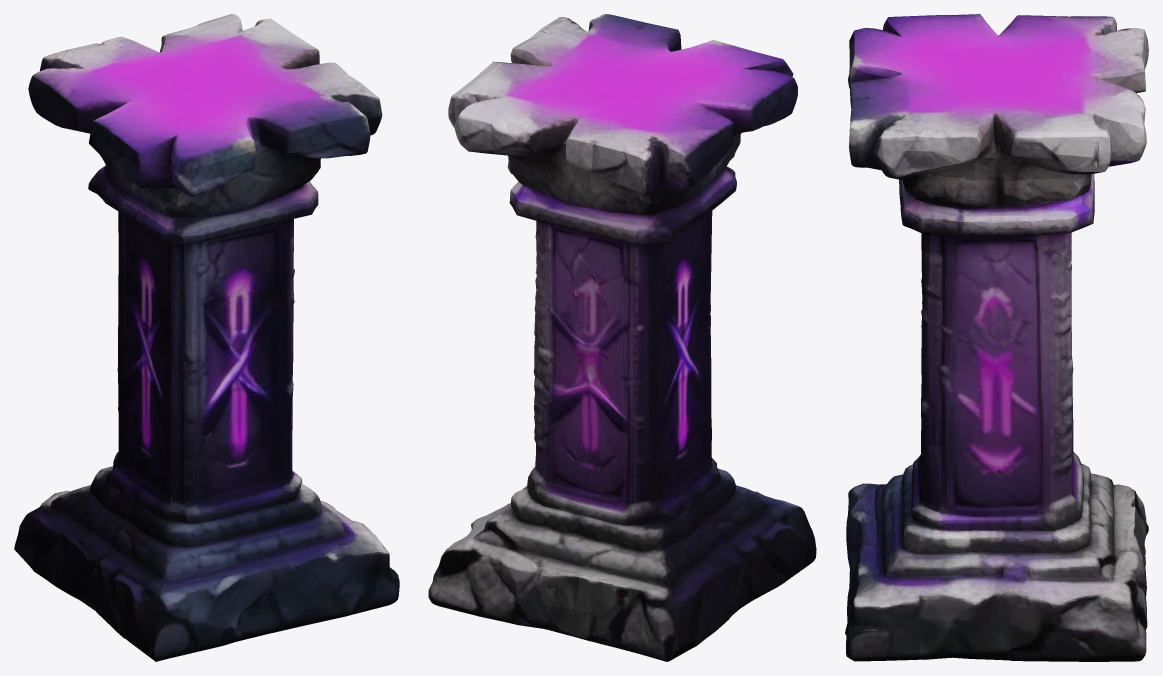
Rendered from prop_rift_ruin.glb.
3 views of the same model, side by side, from view 1: azimuth 30°, elevation 25°; view 2: azimuth 150°, elevation 25°; view 3: azimuth 270°, elevation 25° (orthographic). The views are drawn at different scales.
Parts seen in each view (by area): view 1: geometry_0; view 2: geometry_0; view 3: geometry_0.
Part boxes in pixels (<box>): geometry_0: <box>14,14,399,661</box>; geometry_0: <box>428,14,816,661</box>; geometry_0: <box>845,14,1148,661</box>.
Bounding box in the file's own units: 0.5287 × 0.9991 × 0.5206.
Materials: 1 (1 with a texture image).
